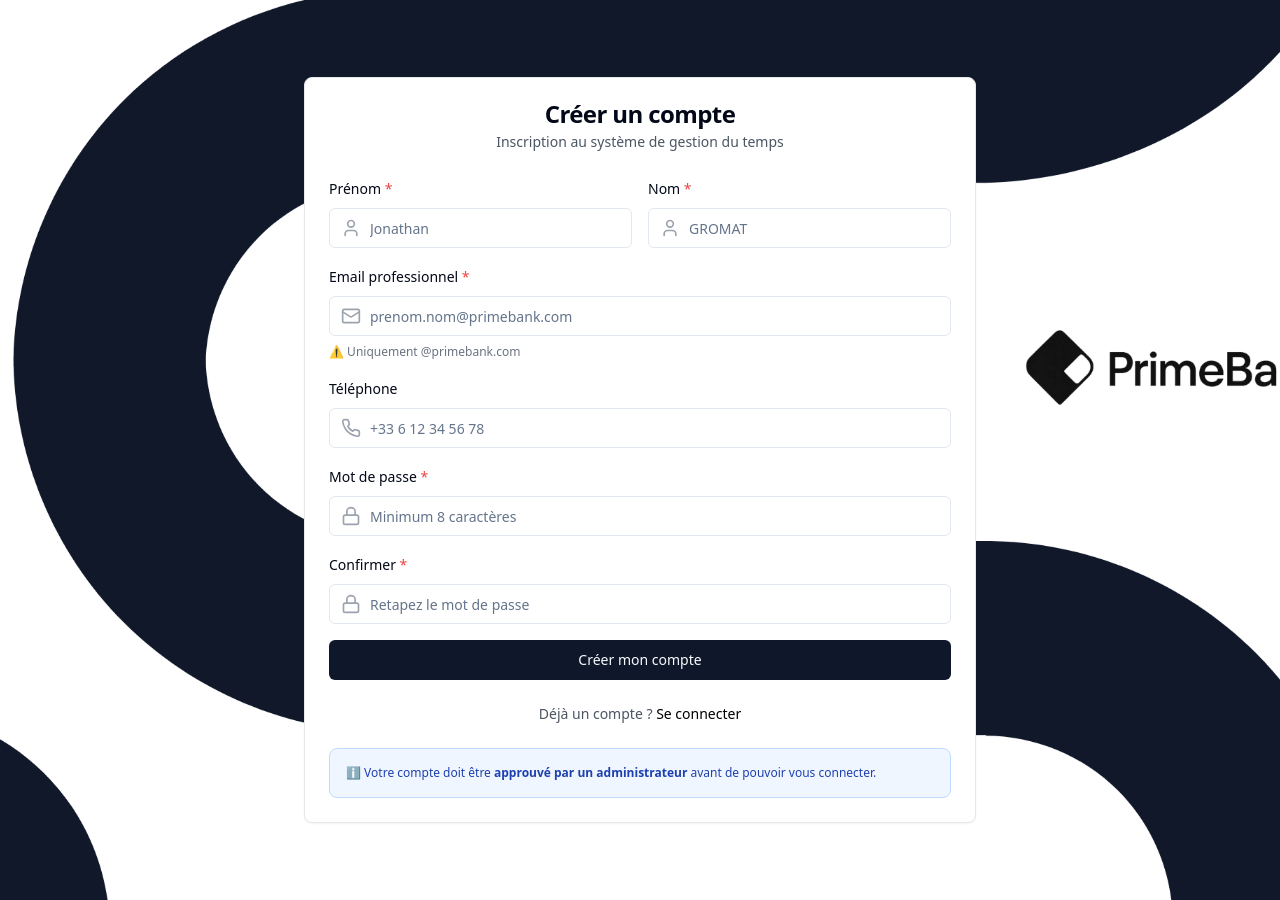
Scenario: RegisterPage › validates password match
Type "test@primebank.com" into the field with placeholder "prenom.nom@primebank.com" at (640, 316), box left=329, top=296, right=951, bottom=336
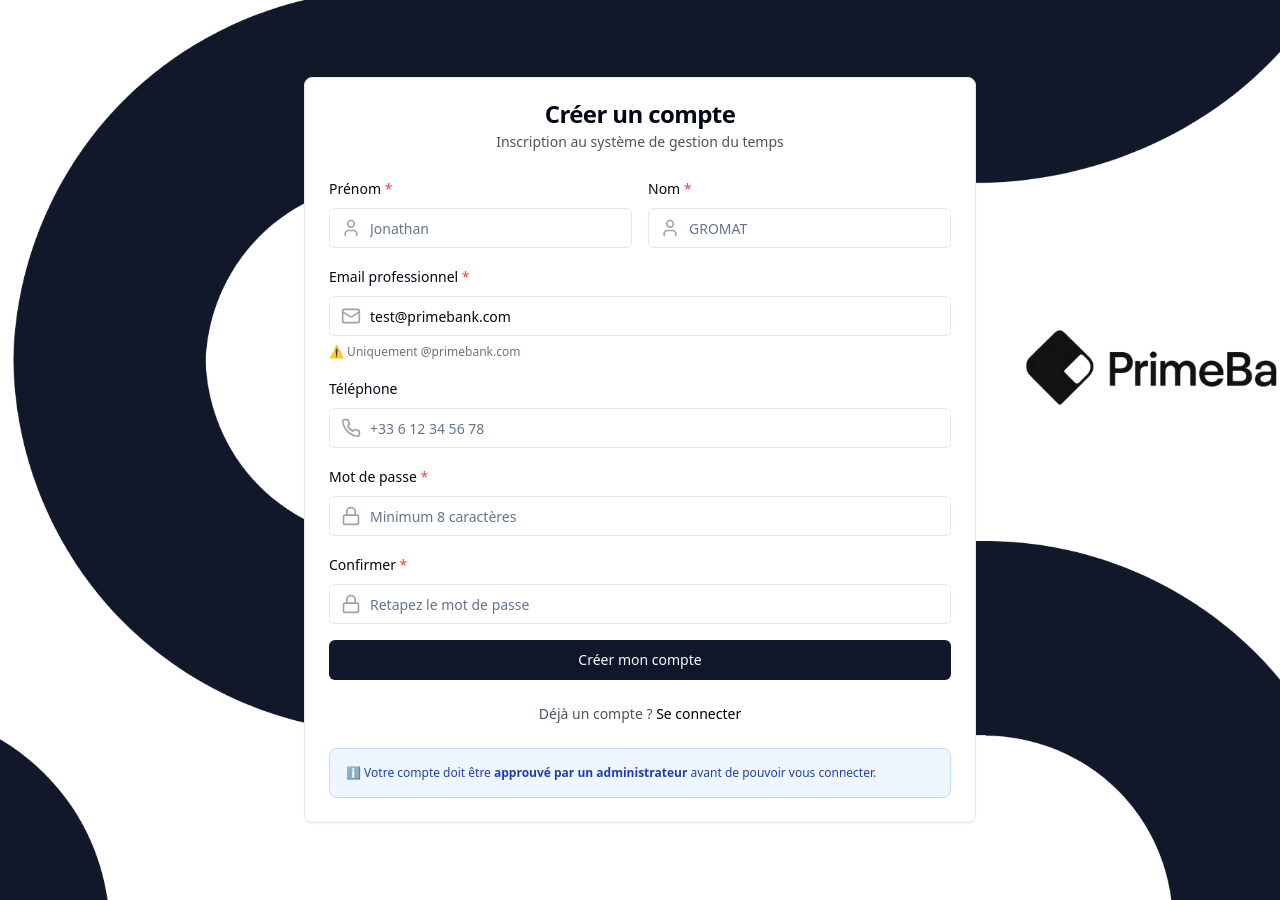
Type "password123" into the password field labelled "Mot de passe *" at (640, 516), box left=329, top=496, right=951, bottom=536
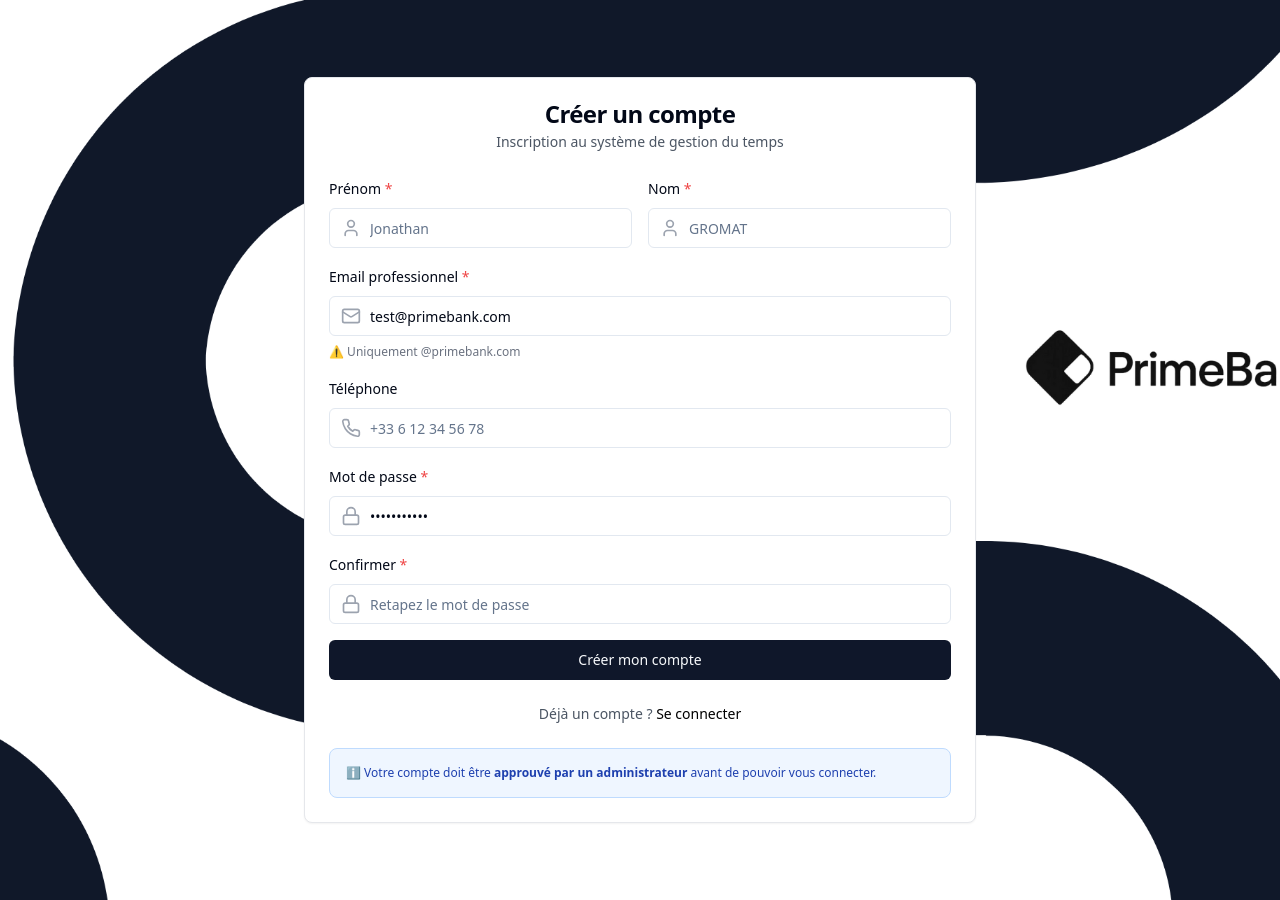
Type "different" into the password field labelled "Confirmer *" at (640, 604), box left=329, top=584, right=951, bottom=624
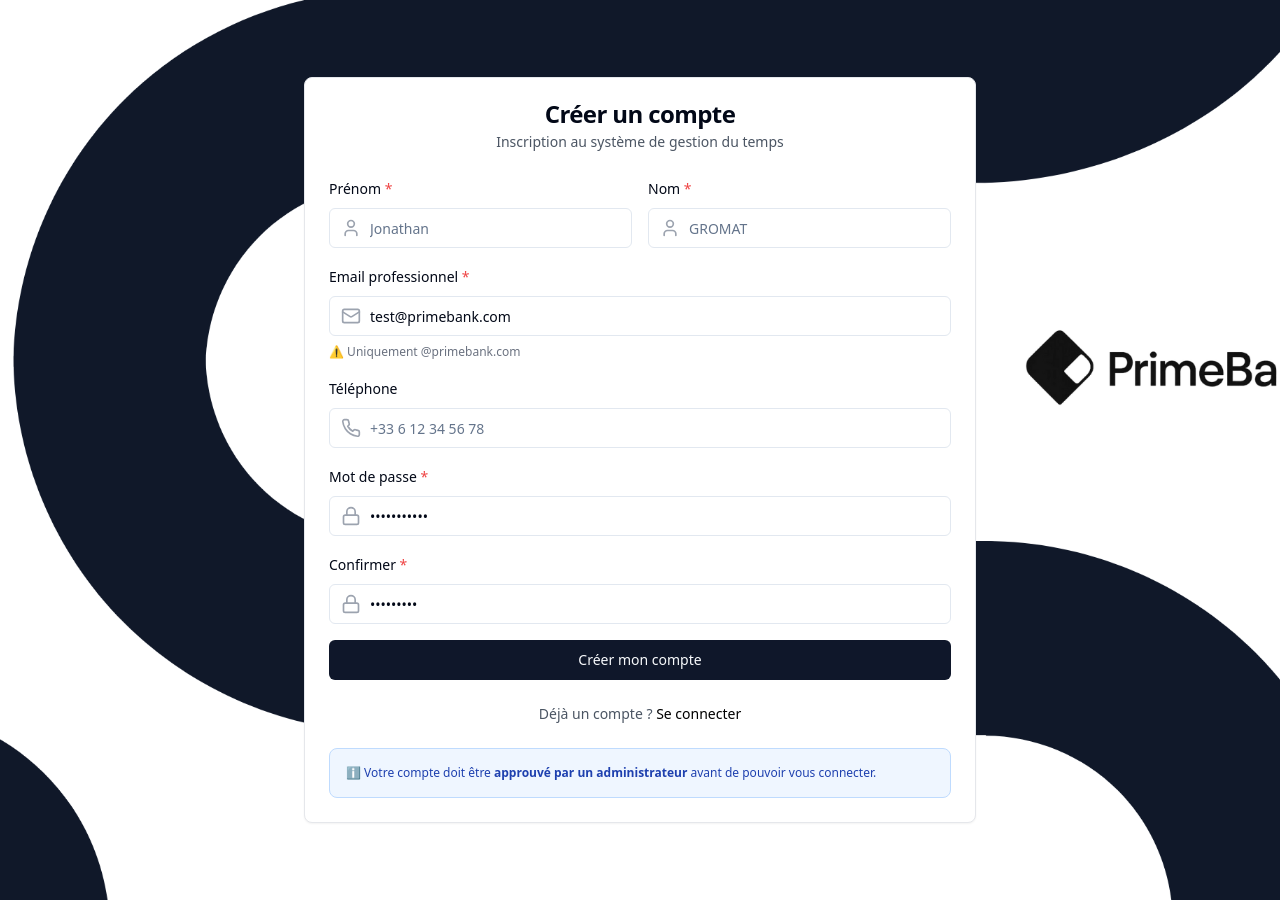
Submit the form with test id "register-form", box left=329, top=176, right=951, bottom=680
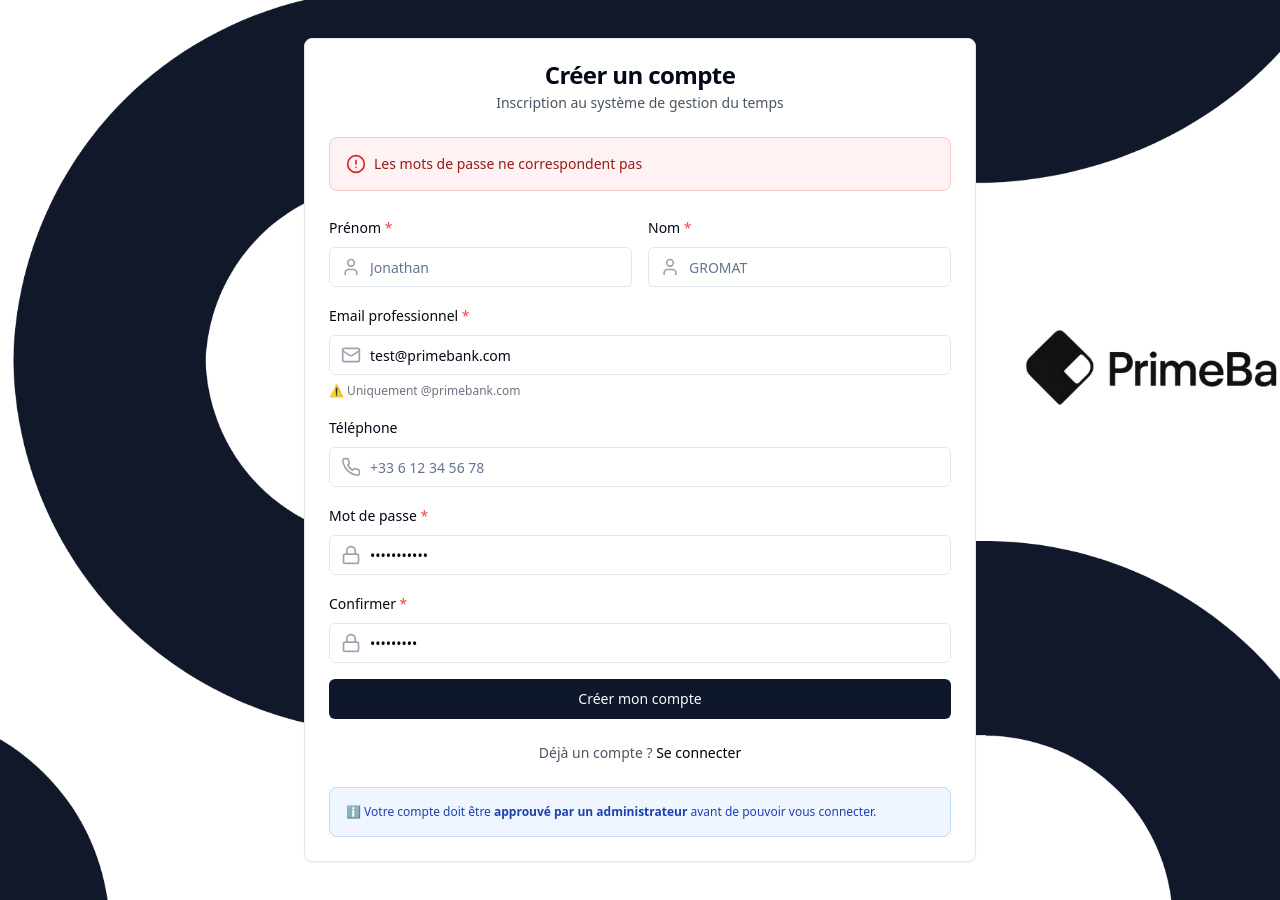
Now the text "Les mots de passe ne correspondent pas" is shown, box left=374, top=154, right=642, bottom=174
